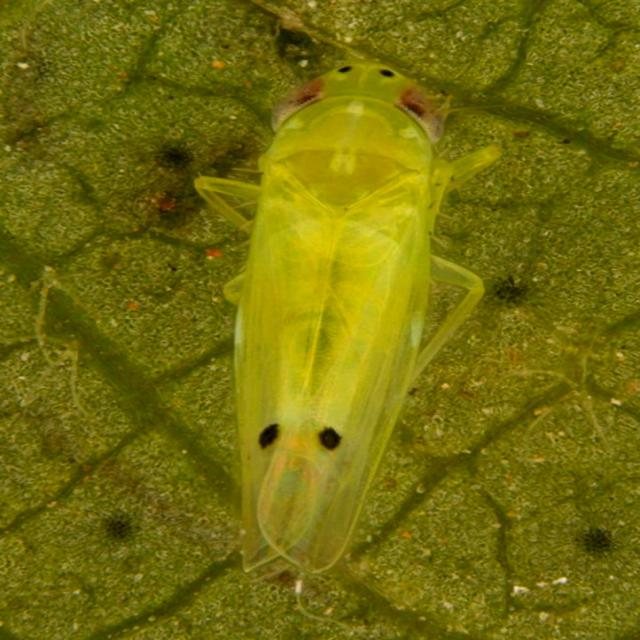Yechan: (164, 41, 482, 581)
